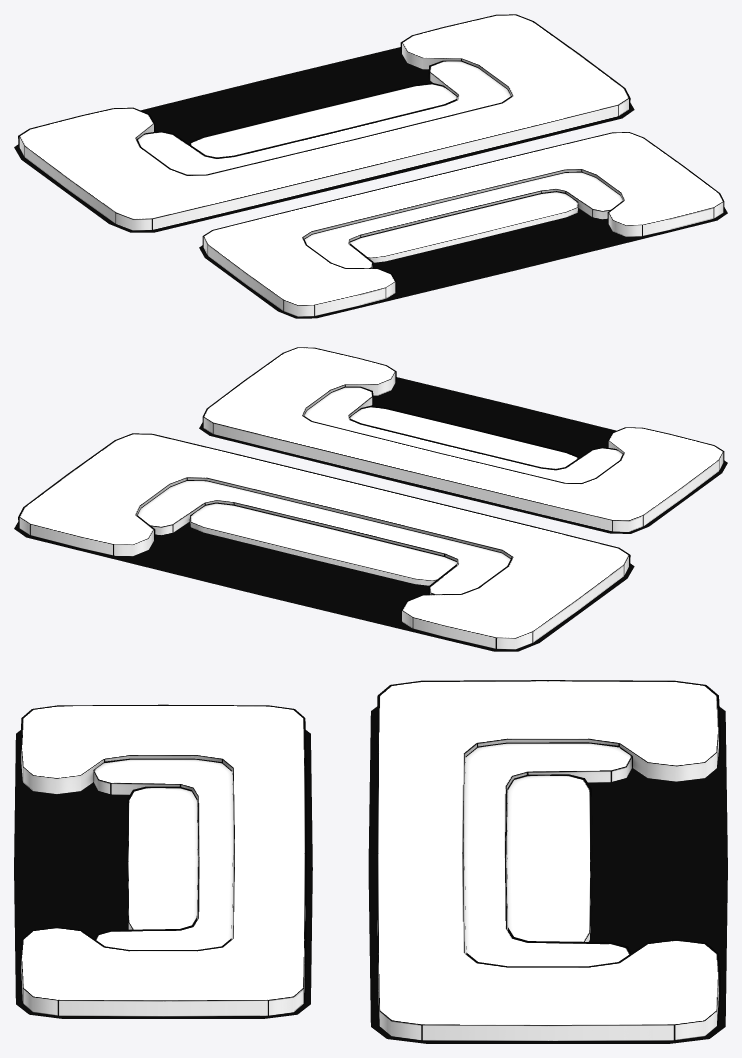
File: obj_stairs.gltf
3 renders of one model, top to bottom at view 1: azimuth 30°, elevation 25°; view 2: azimuth 150°, elevation 25°; view 3: azimuth 270°, elevation 25°, orthographic. The views are drawn at different scales.
Visible parts, largest first — view 1: obj_stairs; view 2: obj_stairs; view 3: obj_stairs.
Boxes of the visible parts, x1,y1,x2,y2 form: obj_stairs: (14, 14, 727, 318); obj_stairs: (14, 347, 727, 651); obj_stairs: (14, 680, 727, 1043).
Size of what is drawn, in the model's own units: 13.98 by 0.3131 by 12.06.
1 material, 1 textured.
